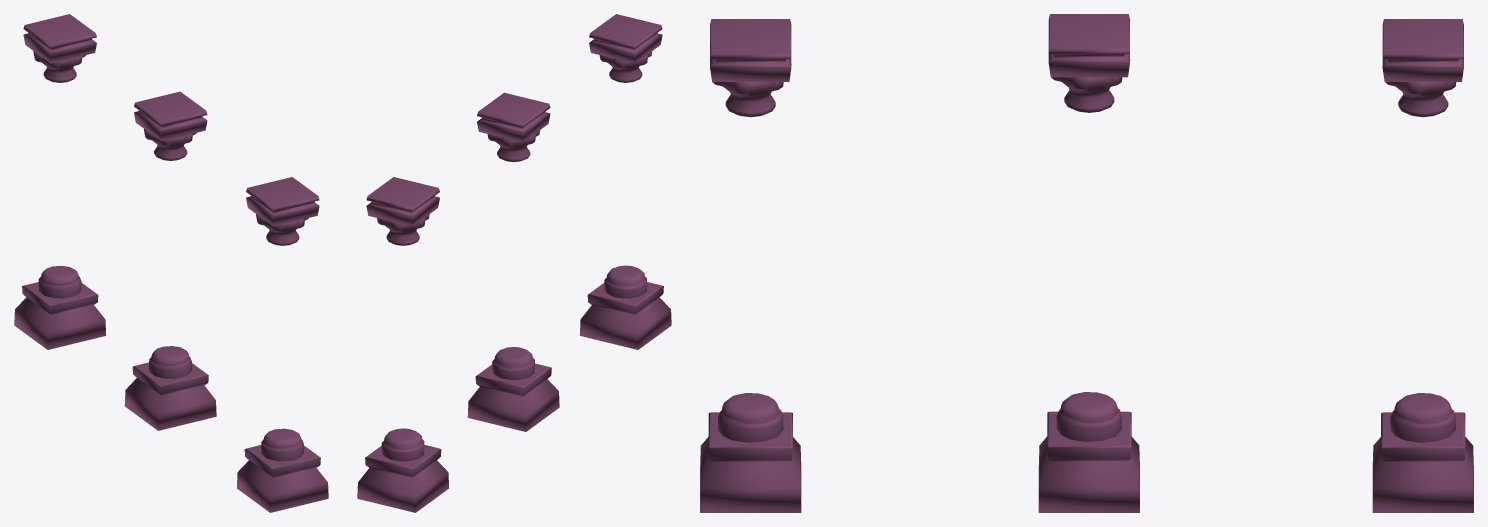
Rendered from Wall_Arc_01A_Lod0.fbx.
3 views of the same model, side by side, from view 1: azimuth 30°, elevation 25°; view 2: azimuth 150°, elevation 25°; view 3: azimuth 270°, elevation 25° (orthographic). The views are drawn at different scales.
Visible parts, largest first — view 1: Wall_Arc_01A_Lod0; view 2: Wall_Arc_01A_Lod0; view 3: Wall_Arc_01A_Lod0.
Part boxes in pixels (x1,y1,x2,y2): Wall_Arc_01A_Lod0: (14, 14, 328, 512); Wall_Arc_01A_Lod0: (357, 14, 671, 512); Wall_Arc_01A_Lod0: (700, 14, 1473, 512).
Bounding box in the file's own units: 60.95 × 304 × 463.
